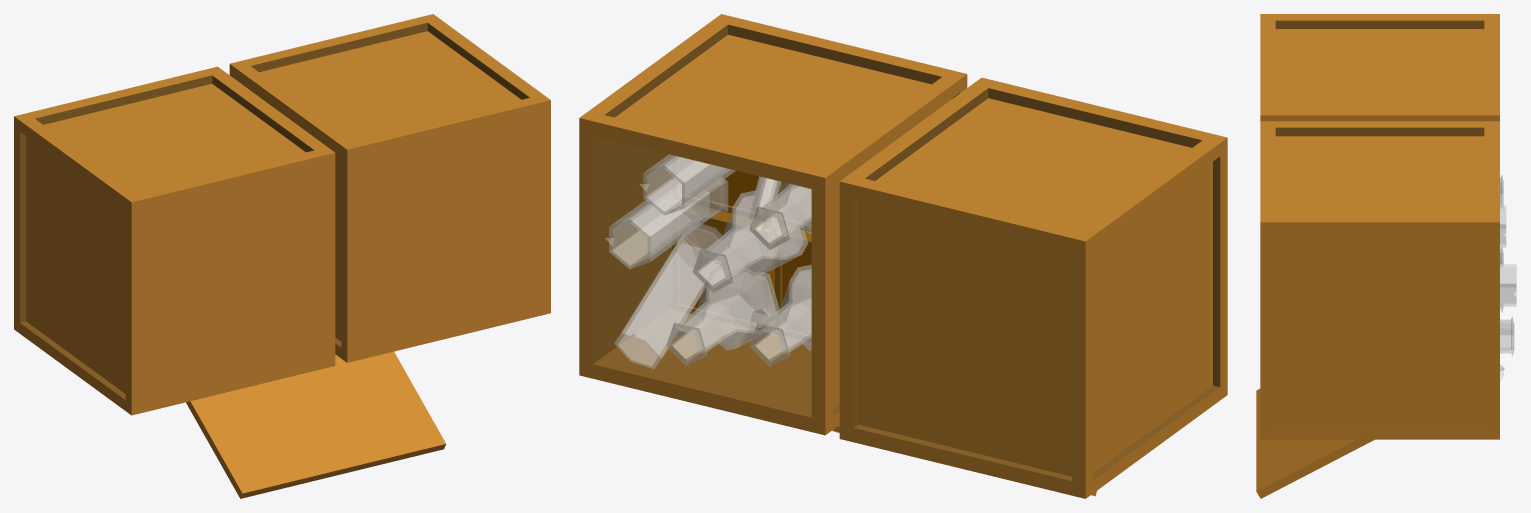
File: BoxesWithTubes.fbx
The picture shows the model from 3 angles, left to right: view 1: azimuth 30°, elevation 25°; view 2: azimuth 150°, elevation 25°; view 3: azimuth 270°, elevation 25°; orthographic projection. The views are drawn at different scales.
Parts seen in each view (by area): view 1: Box, Open Box, Lid Box; view 2: Box, Open Box, Inside Box, Tube Cylinder.002, TestTubeRound.003, Tube Cylinder, Inside Box.001, TestTubeRound.002, TestTubeRound.001, Tube Cylinder.001, TestTubeRound, Test Tube; view 3: Open Box, Box, Lid Box, Tube Cylinder, TestTubeRound.003, Tube Cylinder.001.
Part boxes in pixels (x1,y1,x2,y2): Box: (14, 66, 335, 415); Open Box: (229, 14, 550, 362); Lid Box: (186, 351, 445, 498); Box: (839, 77, 1227, 498); Open Box: (579, 14, 967, 435); Inside Box: (672, 155, 783, 332); Tube Cylinder.002: (614, 223, 722, 368); TestTubeRound.003: (666, 266, 779, 365); Tube Cylinder: (605, 177, 728, 269); Inside Box.001: (775, 181, 811, 341); TestTubeRound.002: (693, 190, 808, 292); TestTubeRound.001: (749, 265, 811, 366); Tube Cylinder.001: (639, 154, 735, 215); TestTubeRound: (749, 182, 811, 249); Test Tube: (748, 176, 781, 230); Open Box: (1260, 121, 1499, 439); Box: (1260, 14, 1499, 121); Lid Box: (1256, 389, 1374, 498); Tube Cylinder: (1500, 264, 1516, 306); TestTubeRound.003: (1500, 317, 1514, 355); Tube Cylinder.001: (1500, 205, 1506, 247).
Size of the model in its own units: 240 by 177 by 127.
